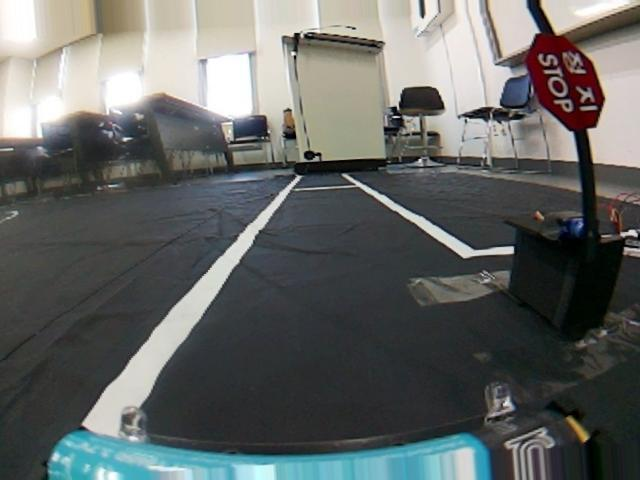sign_stop: (520, 29, 620, 134)
straight: (73, 172, 504, 443)
